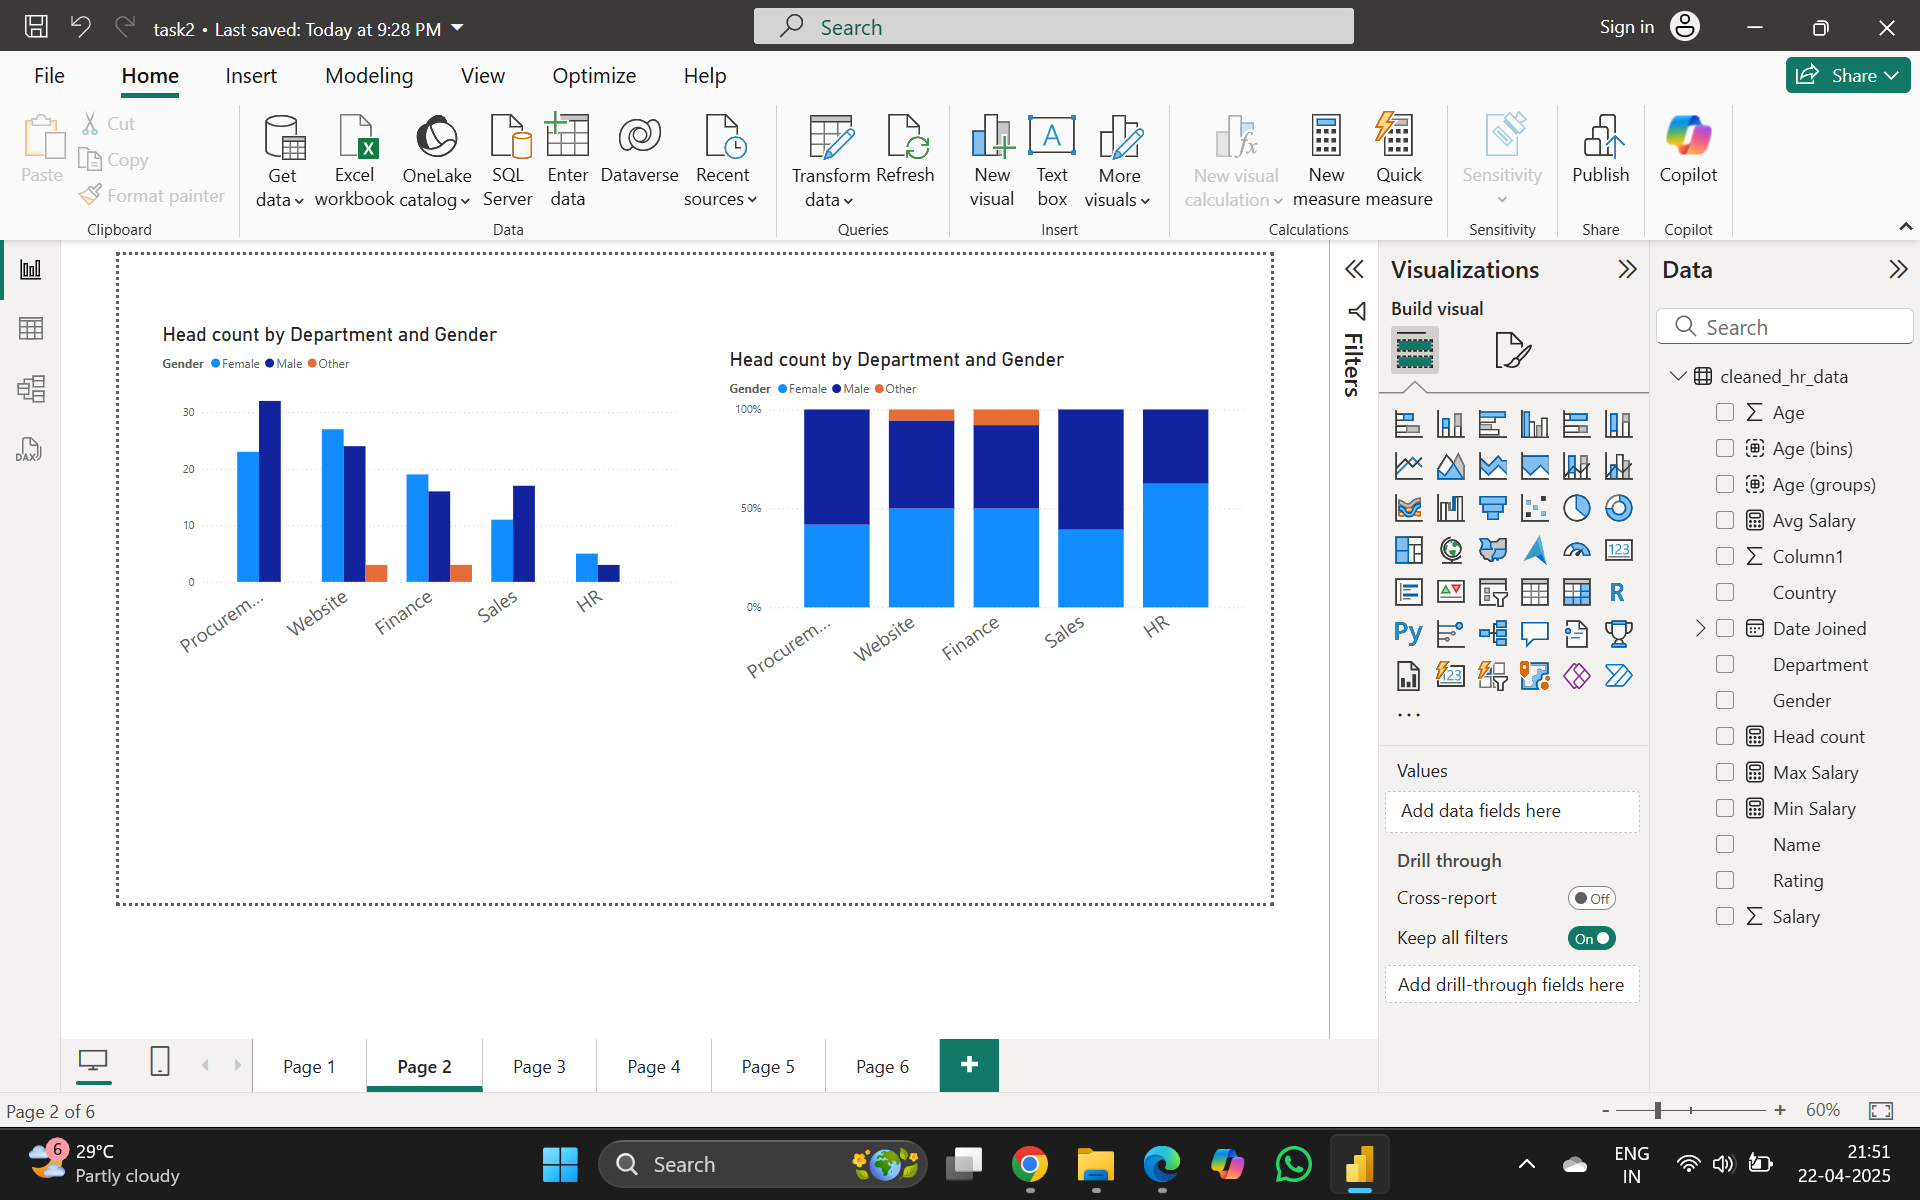

This screenshot's page, from the dashboard's own definition file:
{"tool":"powerbi","page":{"name":"Page 2","canvas":[1280,720],"ordinal":1},"visuals":[{"type":"clusteredColumnChart","fields":{"Category":["cleaned_hr_data.Department"],"Y":["cleaned_hr_data.Head count"],"Series":["cleaned_hr_data.Gender"]},"box":[43.5,75.6,582.1,389.3],"z":0},{"type":"hundredPercentStackedColumnChart","fields":{"Category":["cleaned_hr_data.Department"],"Y":["cleaned_hr_data.Head count"],"Series":["cleaned_hr_data.Gender"]},"box":[672.8,103.9,582.1,389.3],"z":1000}]}

Visuals, with their boxes on the page's 1280x720 design canvas (x1, y1, x2, y2). These are canvas units, not pixel positions in the 1920x1200 screenshot, which may show the page scaled, cropped or inside an application window:
clusteredColumnChart - cleaned_hr_data.Department x cleaned_hr_data.Head count: (44, 76, 626, 465)
hundredPercentStackedColumnChart - cleaned_hr_data.Department x cleaned_hr_data.Head count: (673, 104, 1255, 493)
